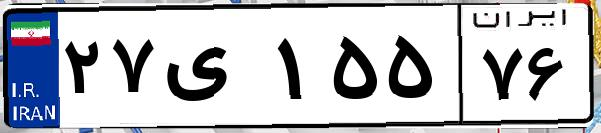1: (270, 28, 330, 110)
2: (57, 26, 110, 100)
5: (385, 28, 445, 110), (330, 28, 385, 110)
6: (525, 38, 570, 115)
7: (475, 38, 525, 113), (110, 28, 158, 98)
ی: (158, 20, 270, 120)
